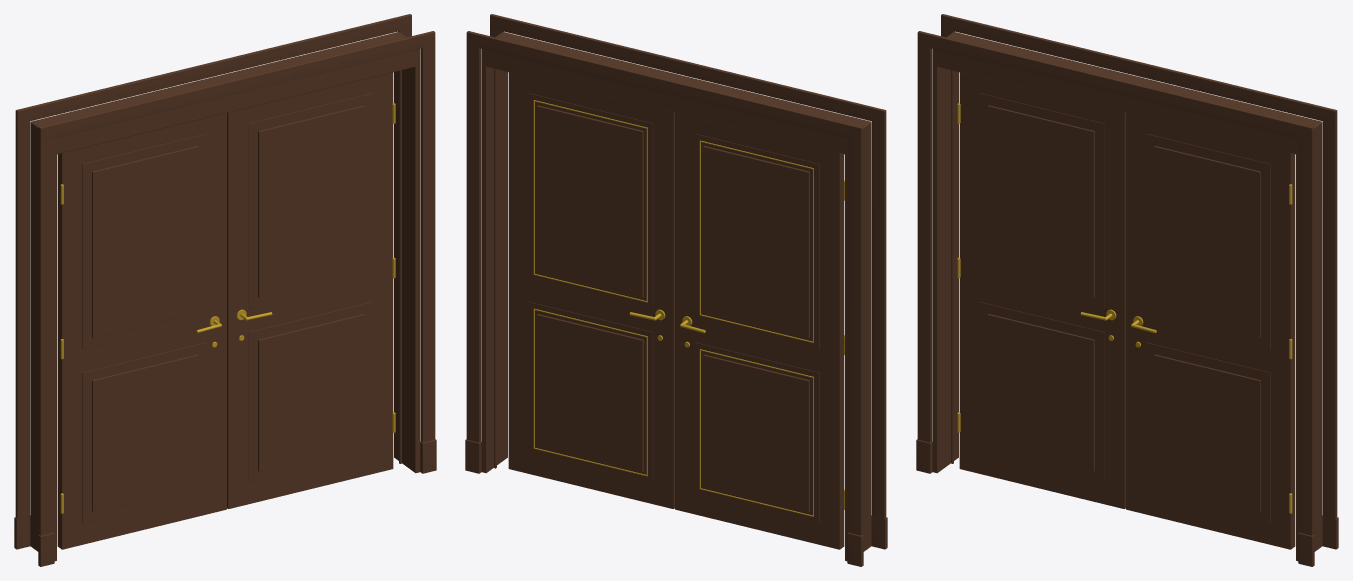
File: prop_door_double_walnut_t20.glb
3 views of the same model, side by side, from view 1: azimuth 30°, elevation 25°; view 2: azimuth 150°, elevation 25°; view 3: azimuth 330°, elevation 25° (orthographic).
Visible parts, largest first — view 1: LeafMesh, LeafMesh2, Frame; view 2: LeafMesh, LeafMesh2, Frame; view 3: LeafMesh2, LeafMesh, Frame.
Boxes of the visible parts, x1,y1,x2,y2 form: LeafMesh: (57, 113, 226, 549); LeafMesh2: (227, 72, 395, 508); Frame: (14, 14, 436, 566); LeafMesh: (675, 113, 844, 549); LeafMesh2: (508, 72, 674, 508); Frame: (465, 14, 887, 566); LeafMesh2: (1126, 113, 1295, 549); LeafMesh: (957, 72, 1125, 508); Frame: (916, 14, 1338, 566).
Size of what is drawn, in the model's own units: 2.15 by 2.27 by 0.248.
